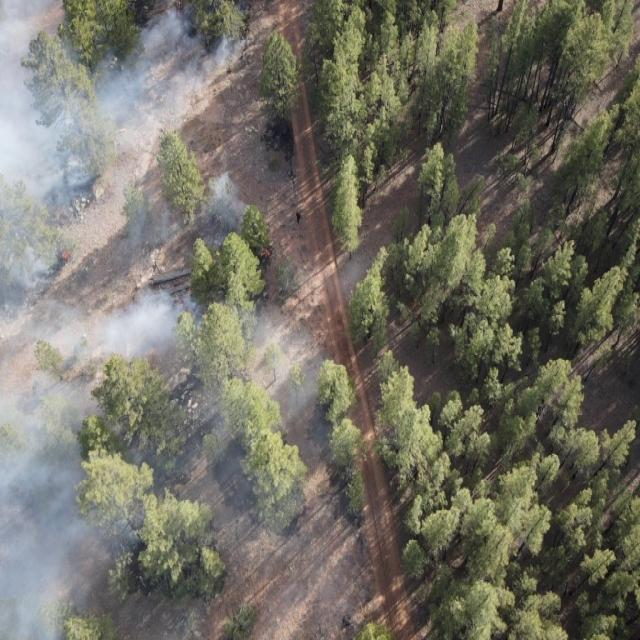fire: (256, 240, 280, 268), (56, 244, 76, 266)
smoke: (0, 0, 246, 640), (247, 300, 365, 640), (338, 236, 396, 312)
